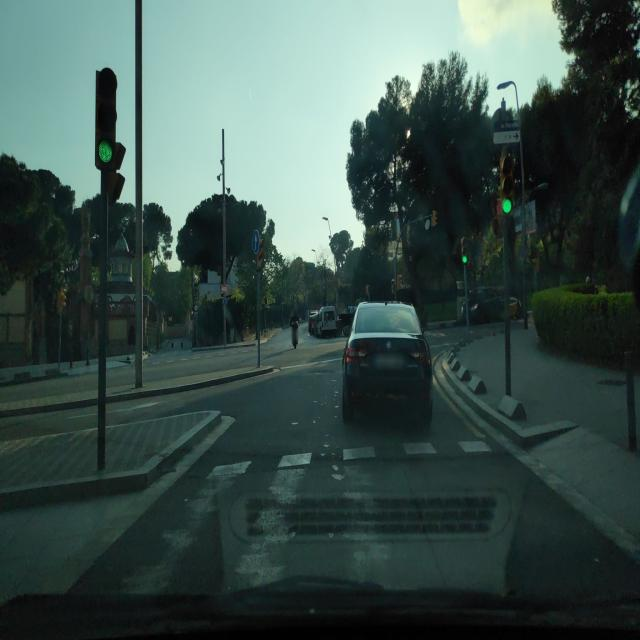bike: (290, 321, 300, 349)
car: (341, 300, 434, 427), (464, 284, 520, 323), (316, 305, 338, 338)
